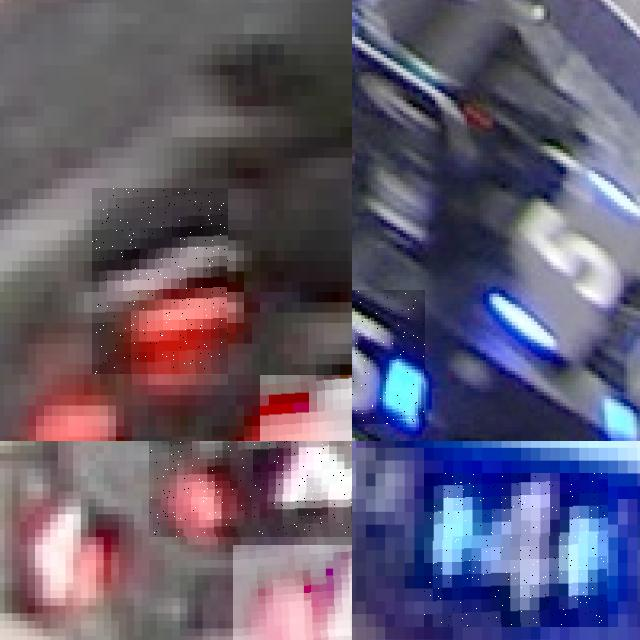B4: (424, 473, 608, 627)
B5: (352, 290, 425, 423)
R4: (149, 441, 352, 537), (9, 468, 130, 614), (233, 545, 352, 640)
R5: (92, 188, 228, 374), (260, 374, 352, 441)
